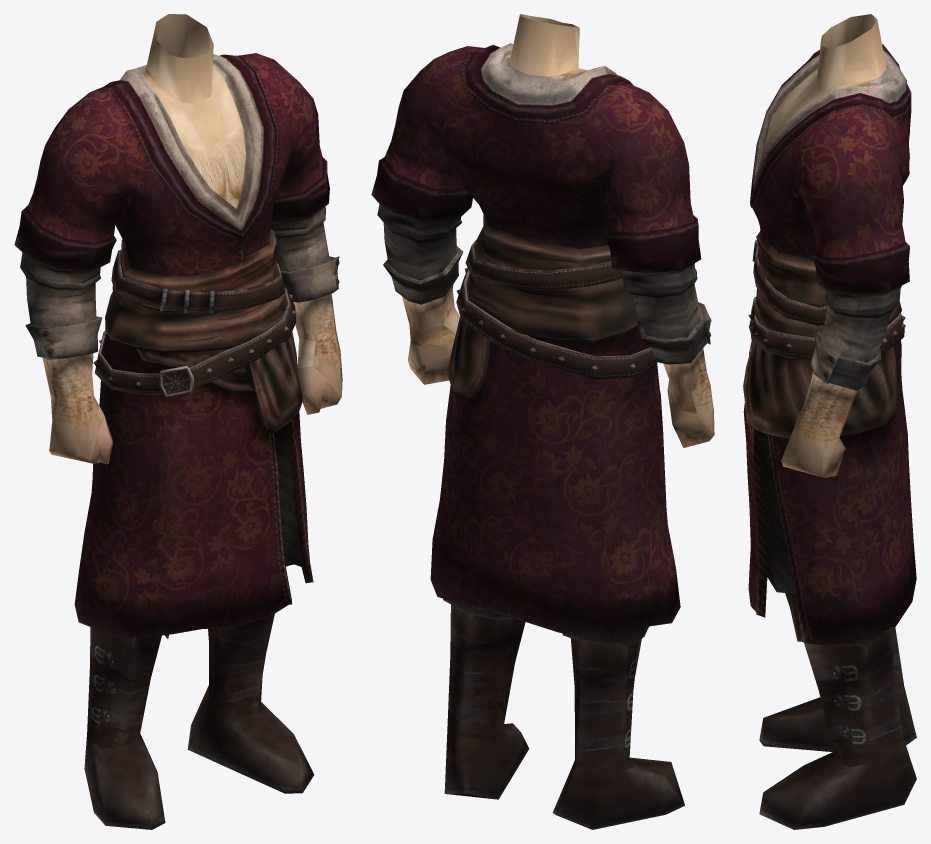
The model's file is KOSA_KONTUSZ_RED.glb.
3 renders of one model, left to right at view 1: azimuth 30°, elevation 25°; view 2: azimuth 150°, elevation 25°; view 3: azimuth 270°, elevation 25°, orthographic. The views are drawn at different scales.
Parts seen in each view (by area): view 1: KOSA_KONTUSZ_RED; view 2: KOSA_KONTUSZ_RED; view 3: KOSA_KONTUSZ_RED.
Boxes of the visible parts, x1,y1,x2,y2 form: KOSA_KONTUSZ_RED: (14,14,342,829); KOSA_KONTUSZ_RED: (371,14,714,829); KOSA_KONTUSZ_RED: (743,14,916,829).
Bounding box in the file's own units: 0.7081 × 1.69 × 0.3516.
2 materials, 2 textured.
